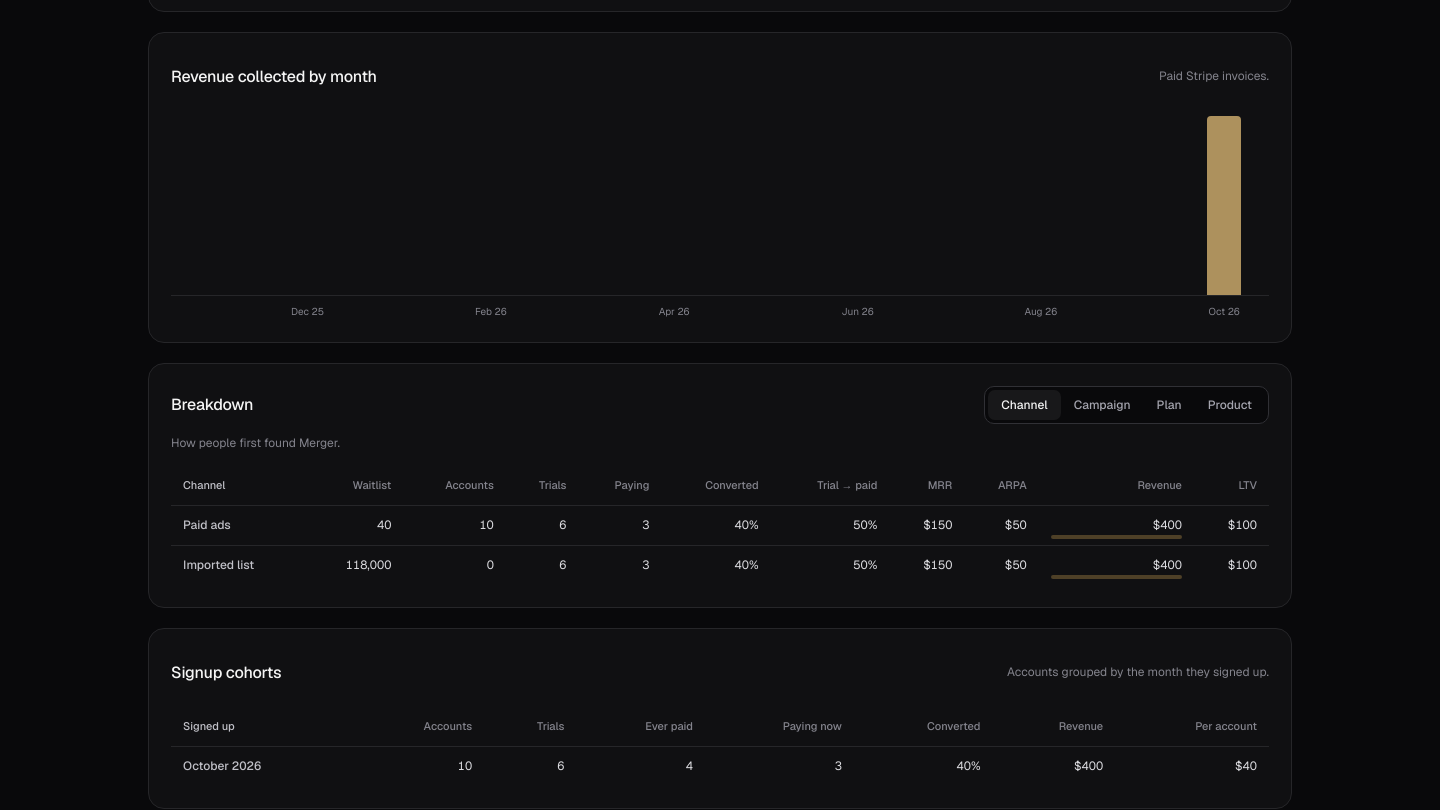
it: growth dashboard › switches the breakdown between channel, plan and product
(page scrolled)
Expected: the column heading "Paid ads" is shown, [171,505,305,546]
Expected: the column heading "Waitlist" is shown, [305,467,403,505]
Click the tab "Plan": x=1169, y=405 [1144,390,1195,420]
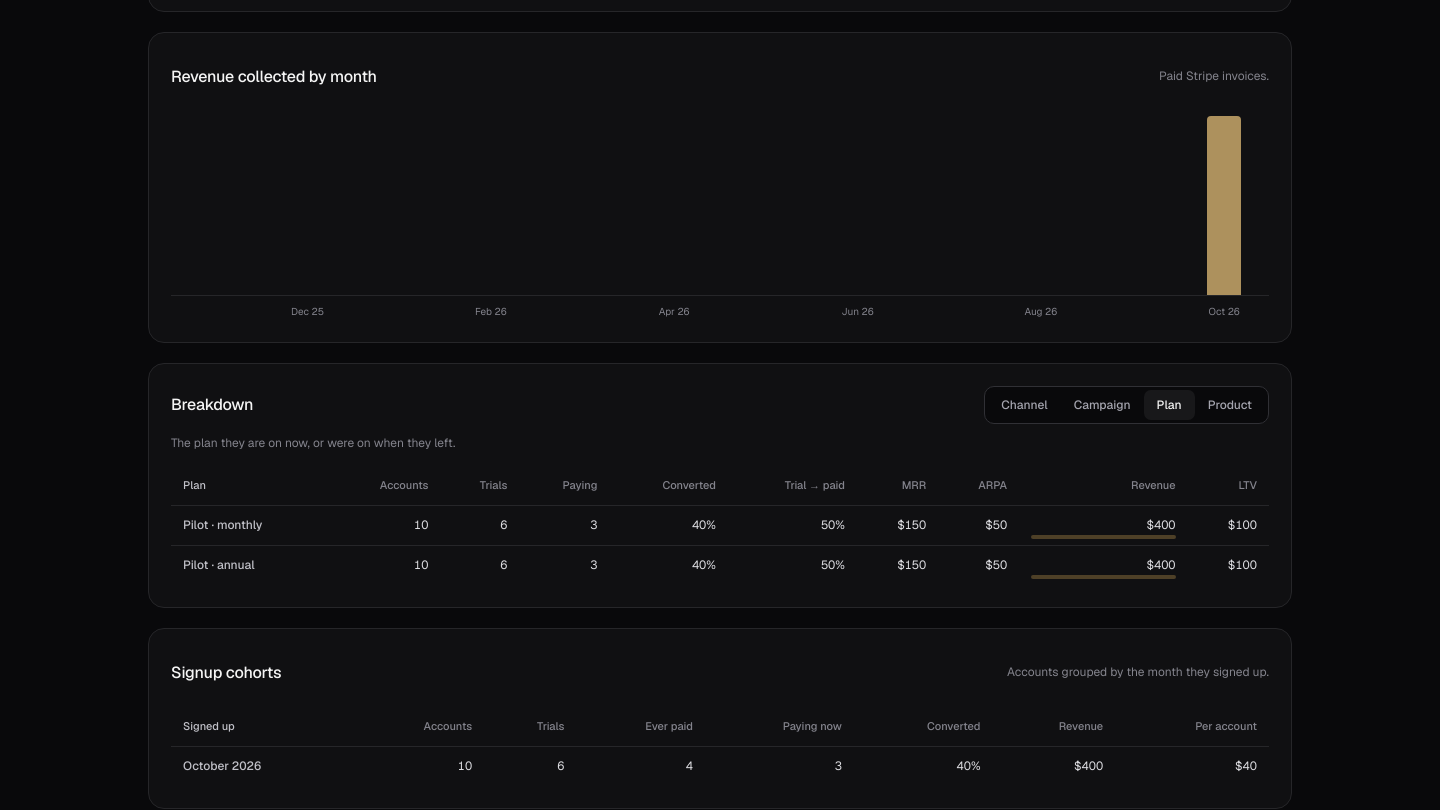
Expected: the column heading "Waitlist" is not shown
Result: the column heading "Pilot · annual" is shown at [171,546,329,585]
Click the tab "Product": x=1230, y=405 [1195,390,1265,420]
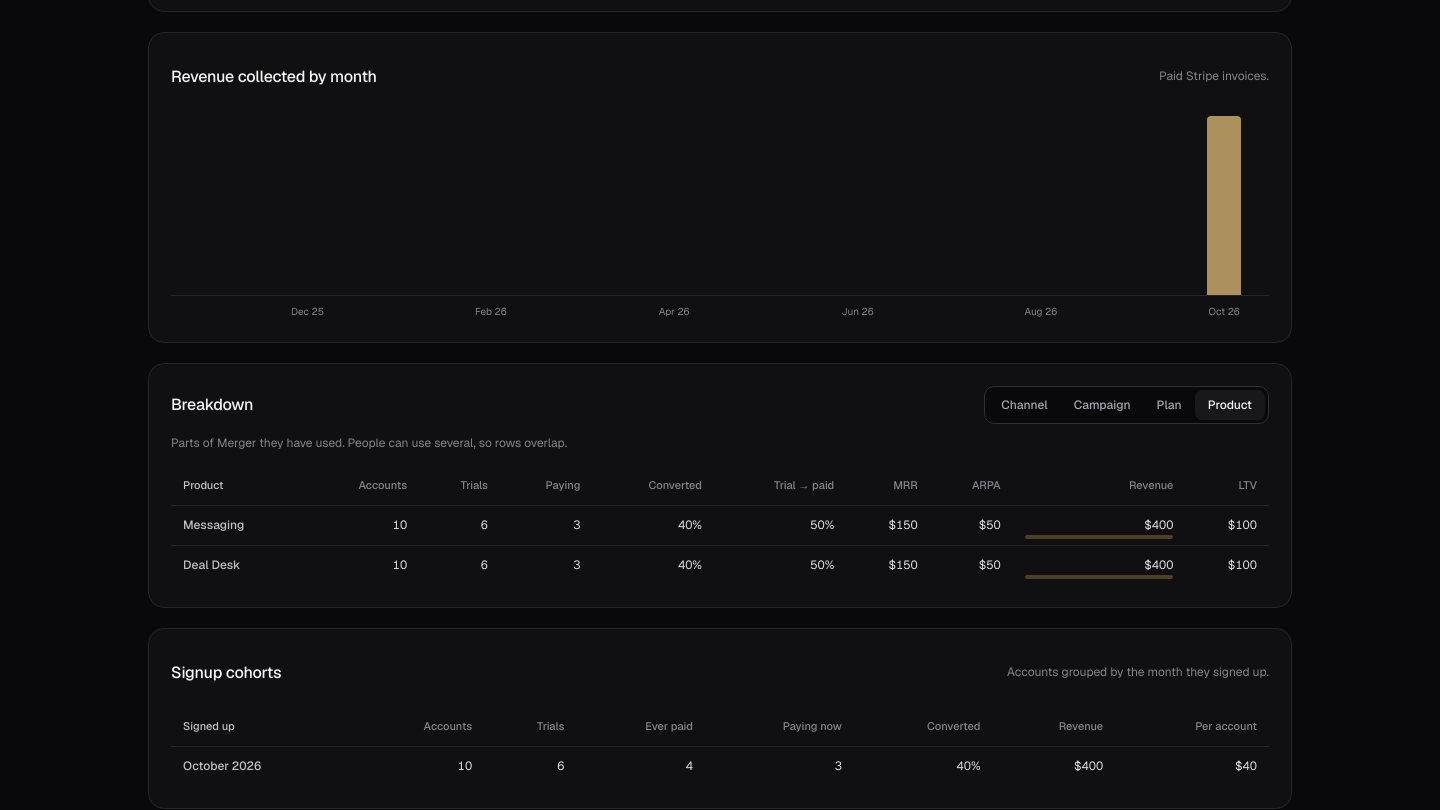
Result: the column heading "Deal Desk" is shown at [171,546,305,585]
Result: the text "rows overlap" is shown at [171,435,567,451]
